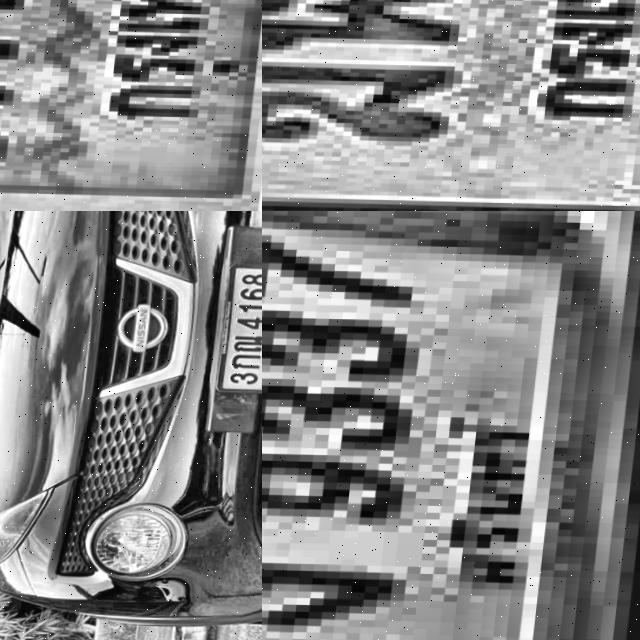license-plate: (262, 211, 640, 640), (262, 0, 640, 211), (0, 0, 262, 211), (217, 260, 262, 398)
